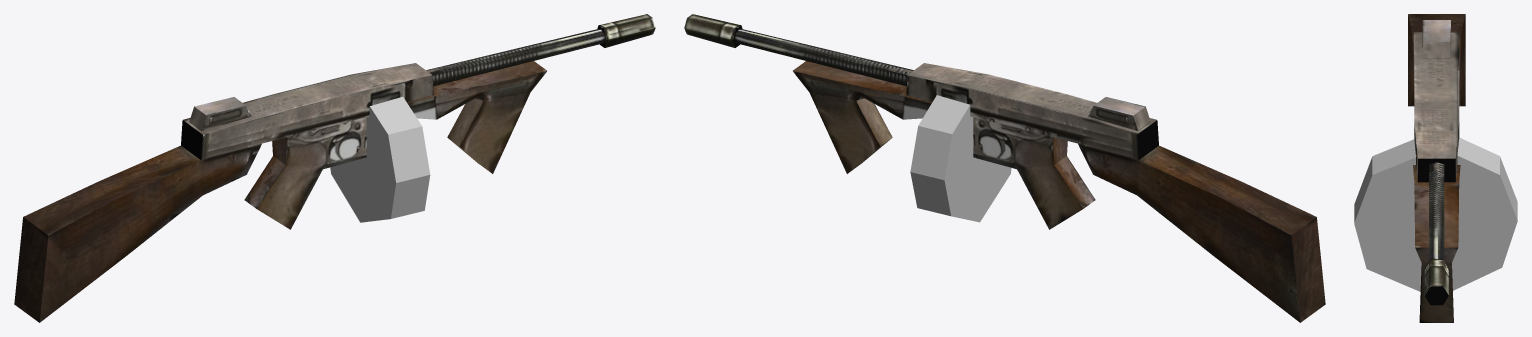
Rendered from thompson_animacja.fbx.
The picture shows the model from 3 angles, left to right: view 1: azimuth 30°, elevation 25°; view 2: azimuth 150°, elevation 25°; view 3: azimuth 270°, elevation 25°; orthographic projection. The views are drawn at different scales.
Parts seen in each view (by area): view 1: Cube, Cube.001; view 2: Cube, Cube.001; view 3: Cube.001, Cube.
Boxes of the visible parts, <box> form: Cube: <box>14,14,655,322</box>; Cube.001: <box>330,96,430,222</box>; Cube: <box>684,14,1325,322</box>; Cube.001: <box>910,95,1011,222</box>; Cube.001: <box>1354,137,1517,291</box>; Cube: <box>1408,14,1465,322</box>.
Bounding box in the file's own units: 1529 × 376 × 305.
